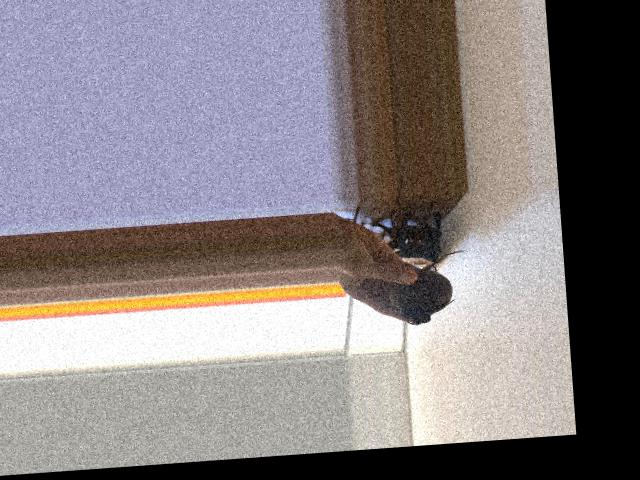beet: (386, 249, 471, 326)
